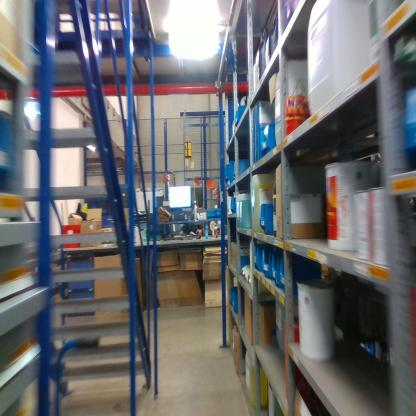small_load_carrier: (63, 219, 81, 256)
